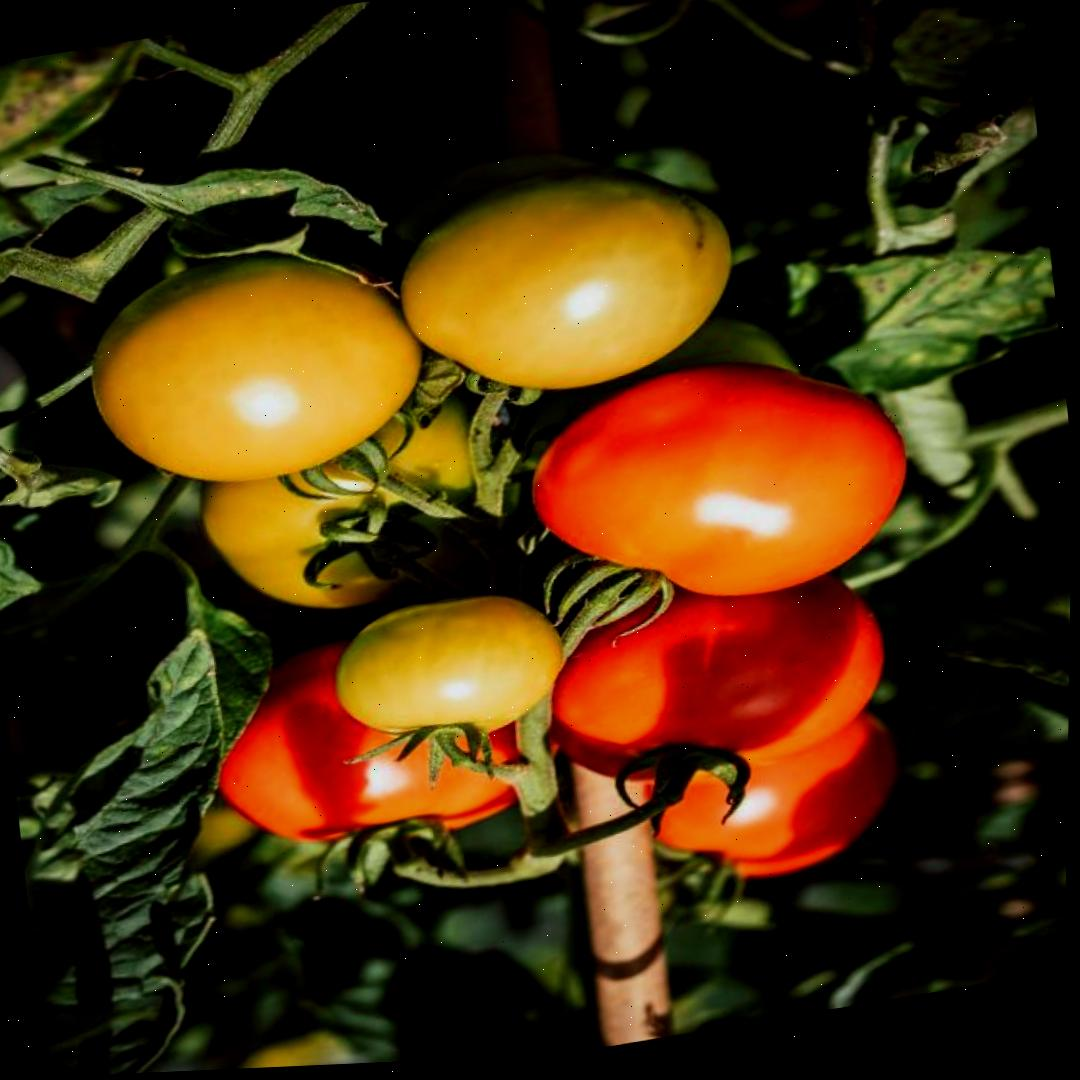matang: (514, 332, 922, 634), (511, 519, 898, 809)
mentah: (73, 226, 440, 510), (387, 142, 747, 417), (329, 581, 574, 759)
